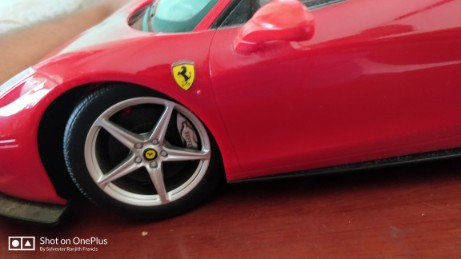unaligned_wheel: (46, 78, 250, 222)
